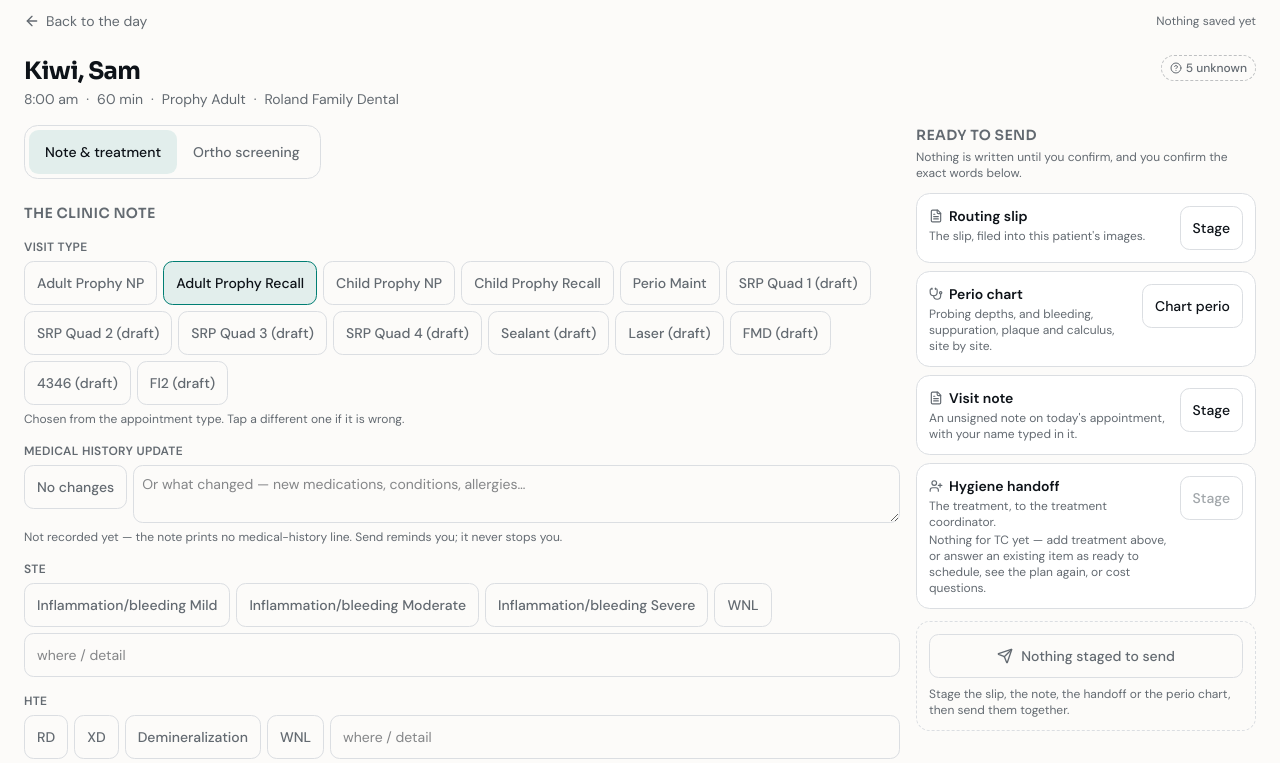
Scenario: 1: every group, exactly as approved › Send to TC waits for Interested? and nothing else
This screenshot has width=1280, height=763.
What coordinates should you click on to do the following:
click the tab with test id "hyg-visit-tab-ortho"
I would click on:
 (246, 152)
Its box is 177,130 -> 316,174.
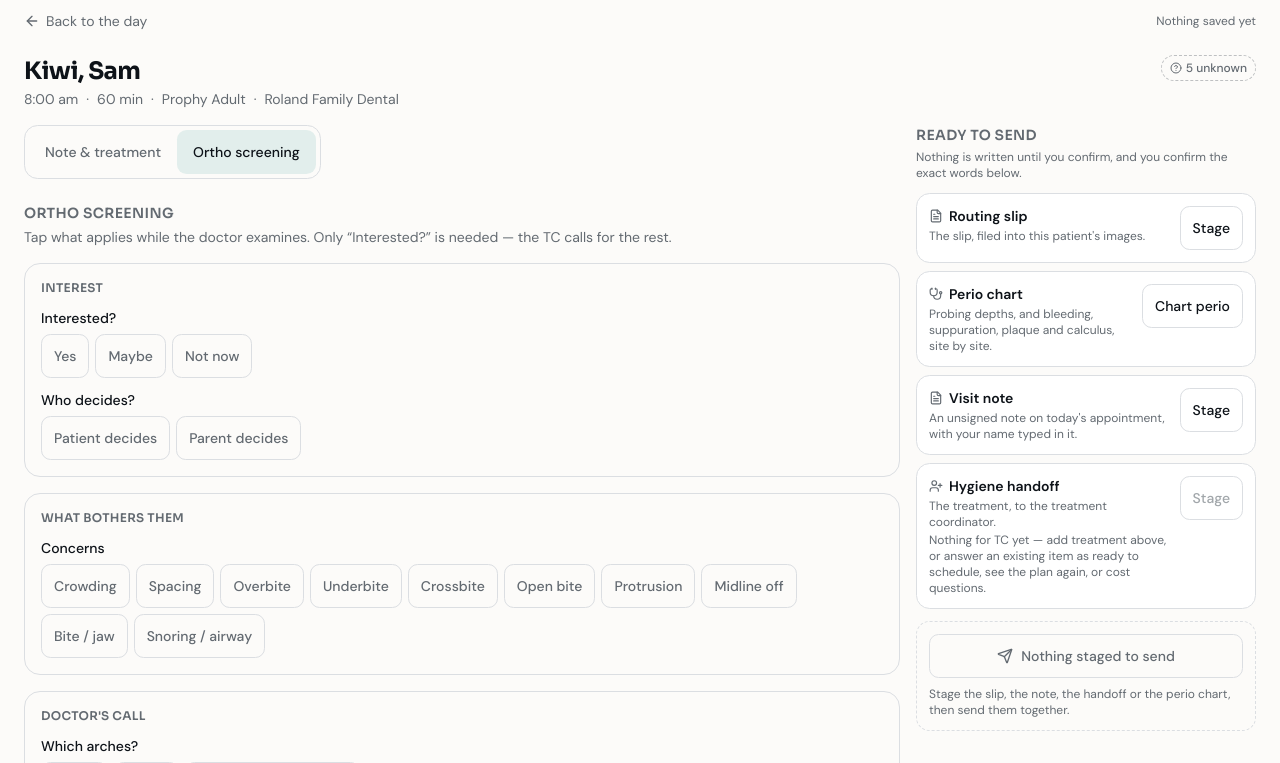
What coordinates should you click on to do the following:
click the button with test id "ortho-interest-not_now"
I would click on:
 (212, 356)
Its box is 172,334 -> 252,378.
(page scrolled)
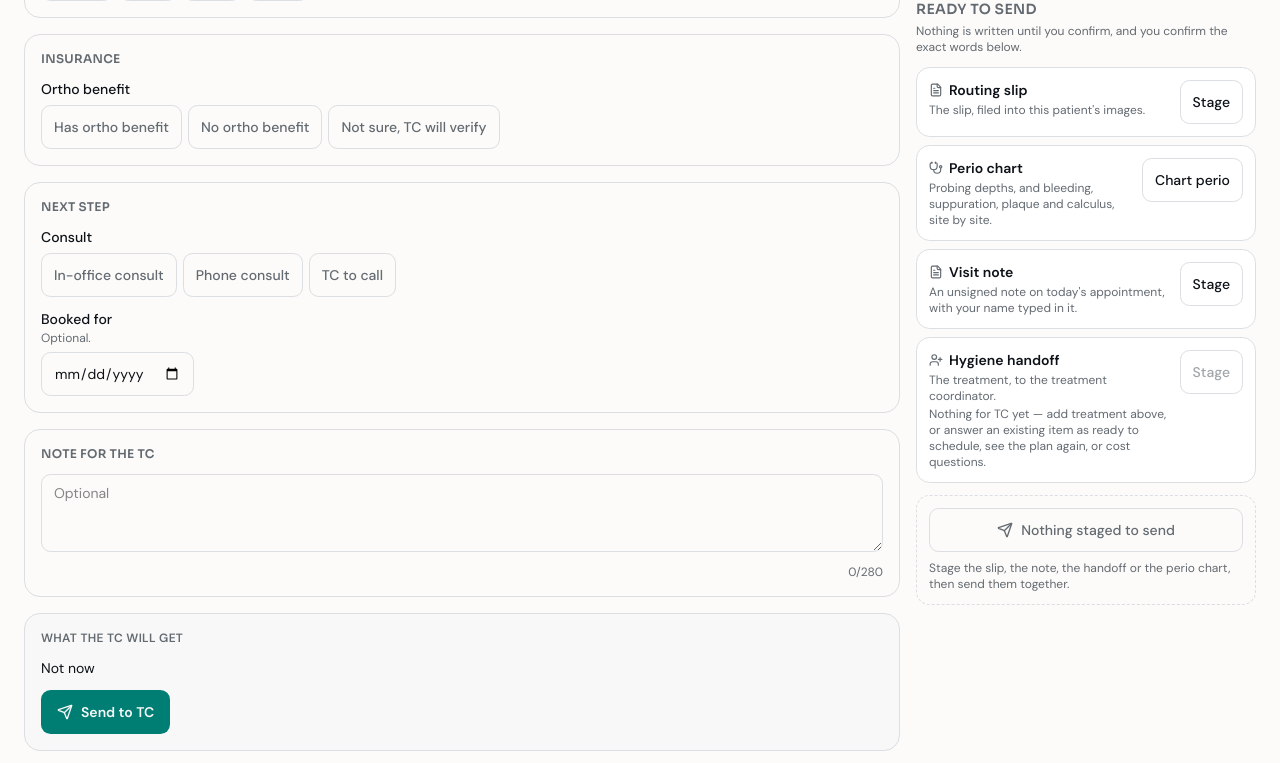
Check: the button with test id "ortho-send" is enabled, box 41,690 -> 170,734
